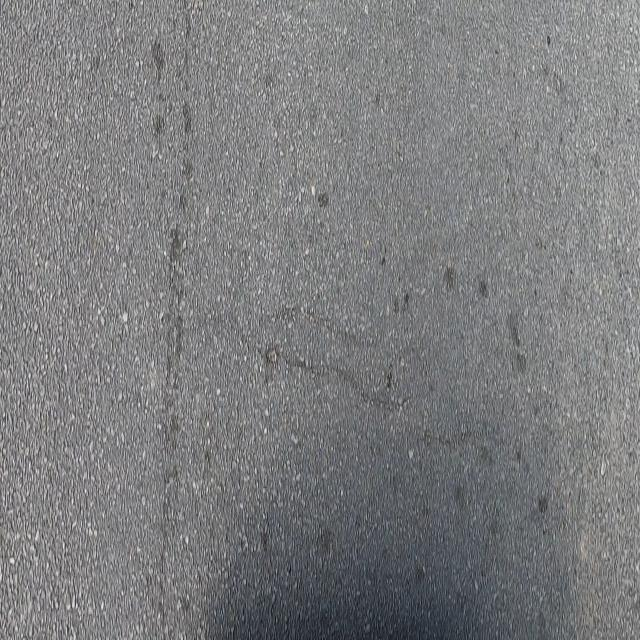Retak-Melintang: (247, 331, 418, 415), (266, 301, 380, 350)
